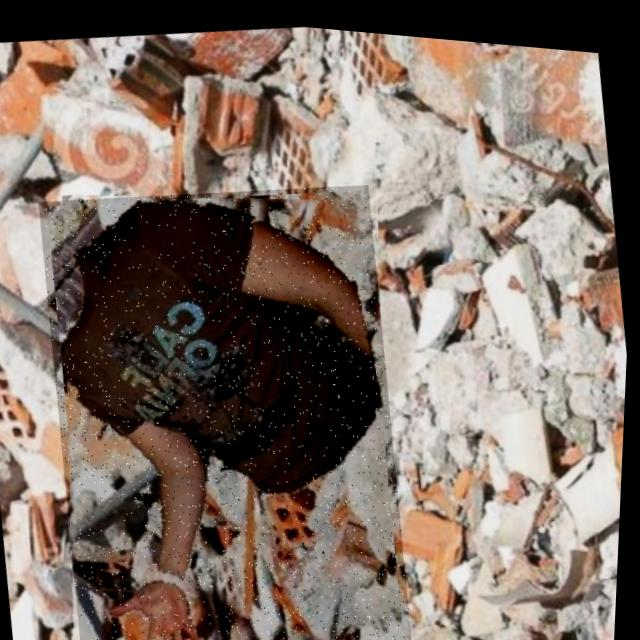Person in Rubble: (25, 154, 436, 640)
